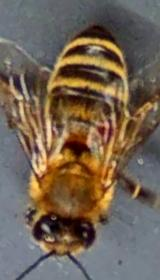varroa_mite: (85, 108, 127, 137)
